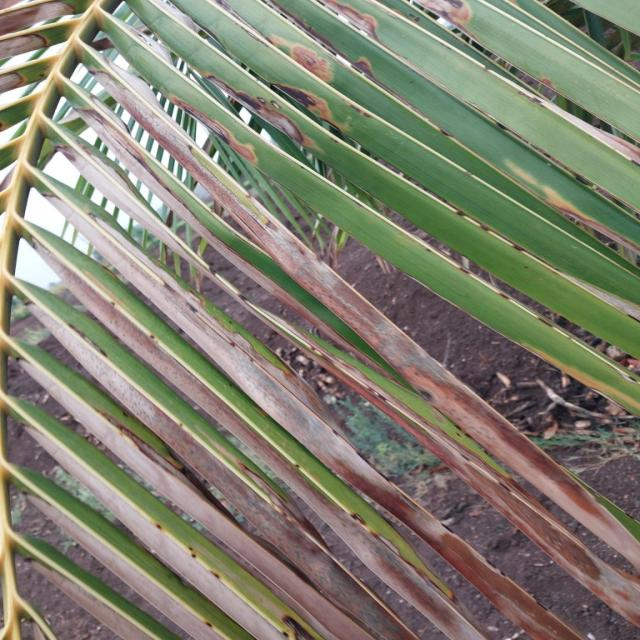gray leaf spot: (0, 0, 640, 640)
